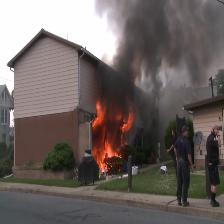fire: (76, 91, 144, 179)
smoke: (77, 0, 224, 105)
